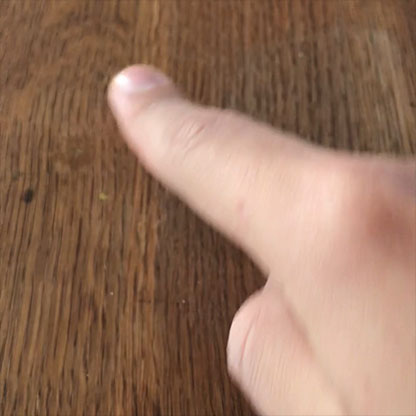fingertip: (84, 50, 196, 132)
